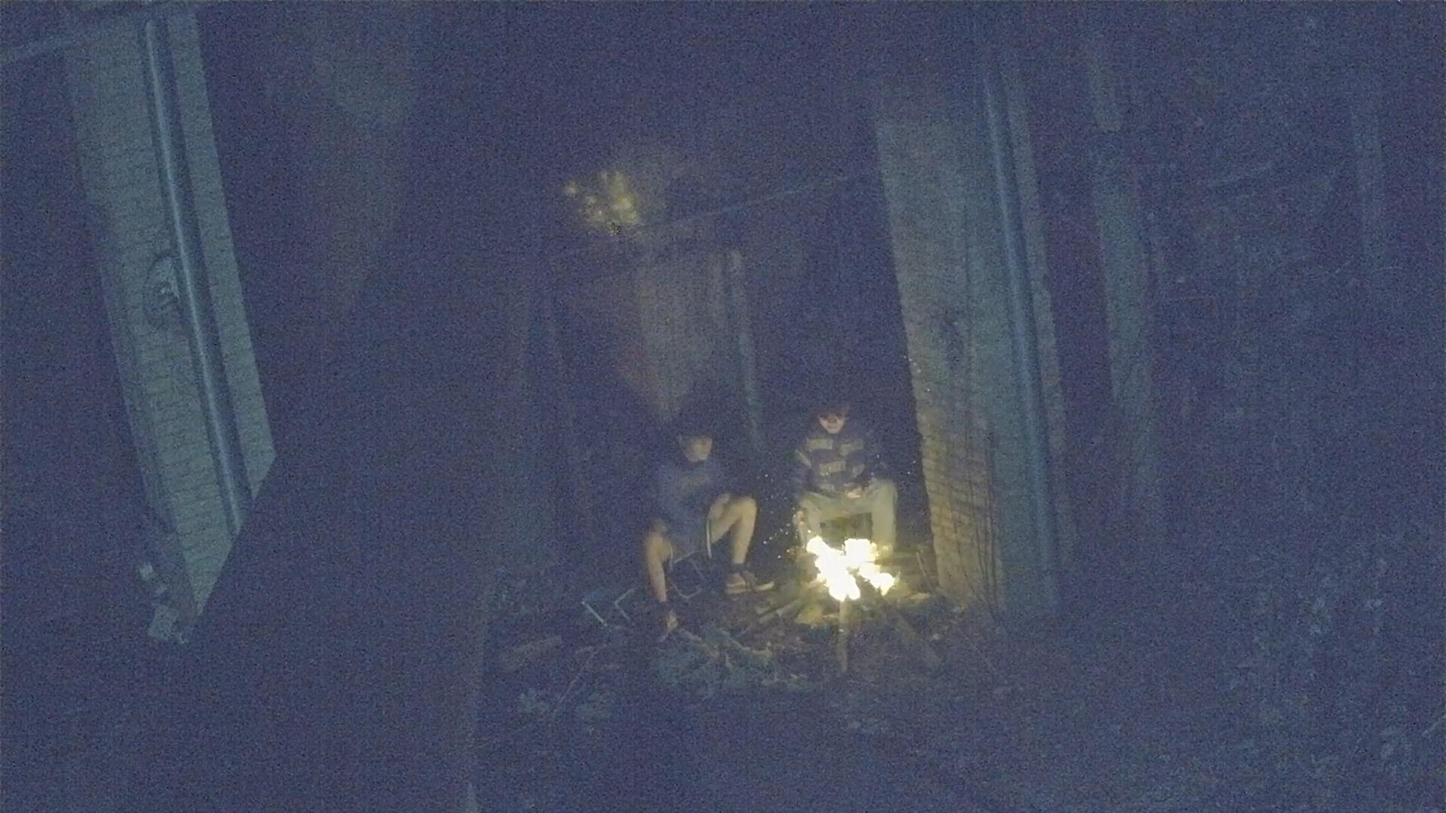fire: (806, 537, 896, 602)
